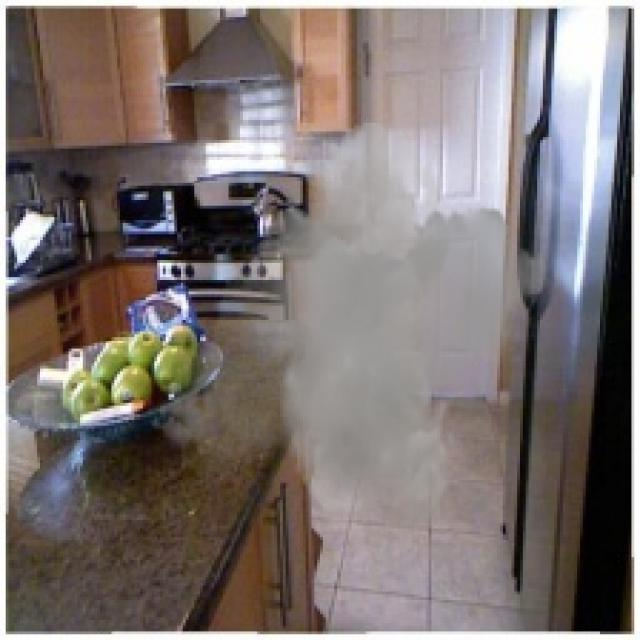Smoke: (148, 120, 563, 534)
